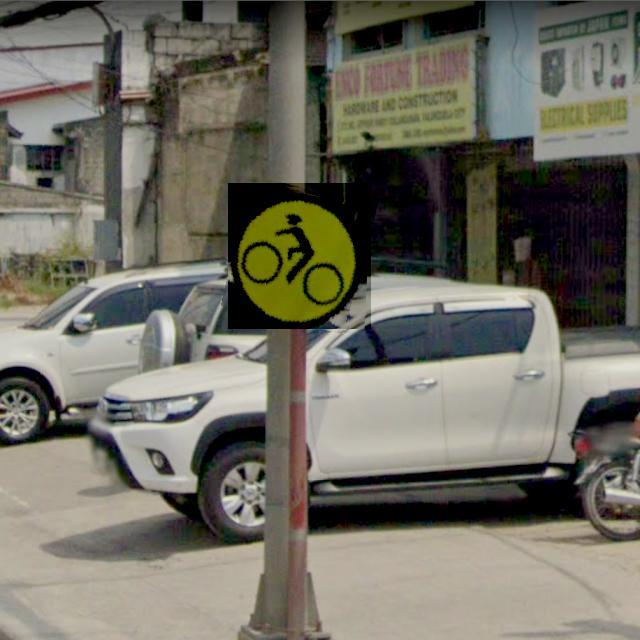bike lane: (228, 183, 371, 329)
